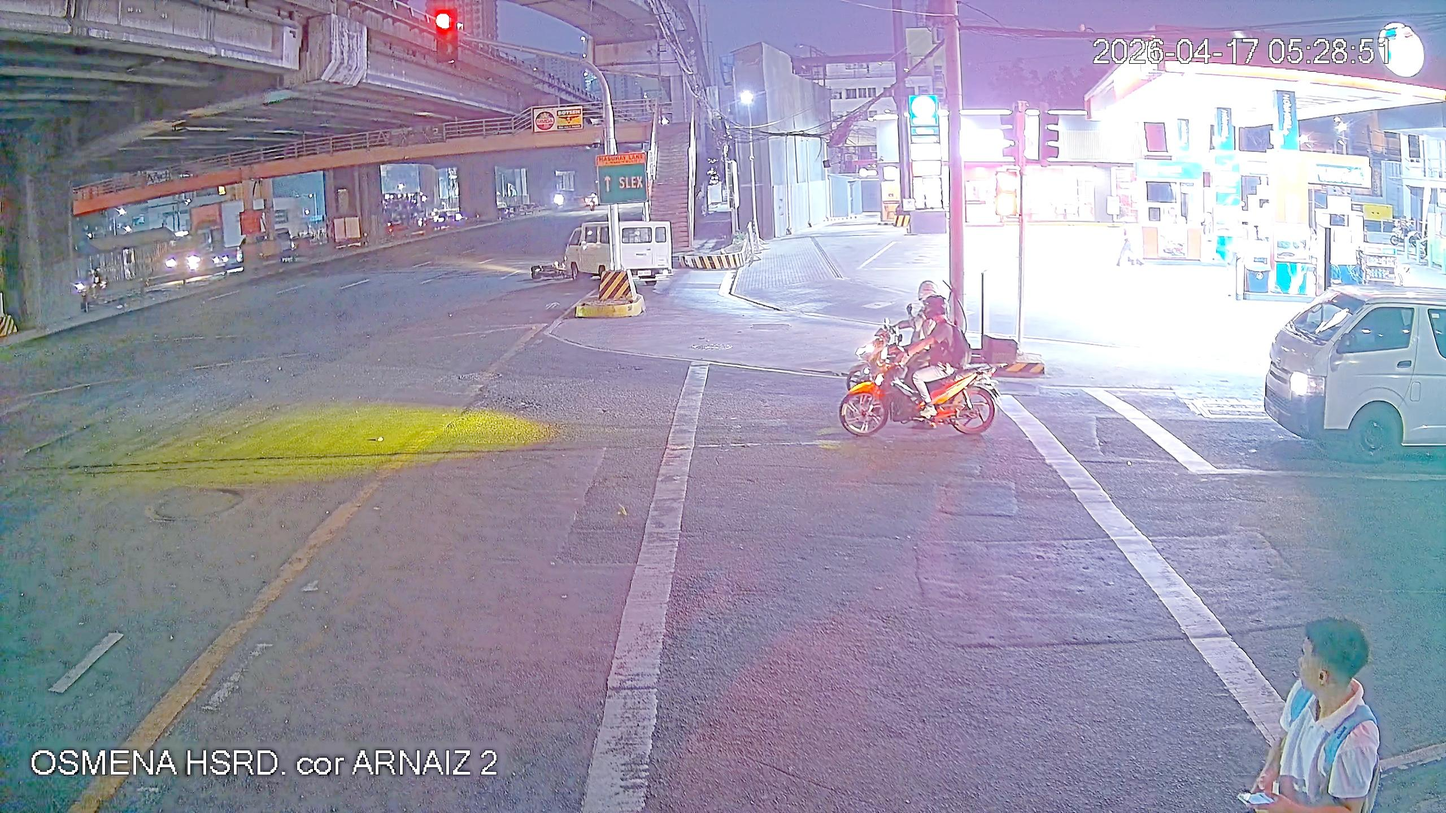Car: (1262, 287, 1446, 460), (566, 218, 674, 285)
Minor Accident: (528, 216, 674, 286)
Motor: (851, 371, 1000, 437), (851, 322, 911, 387), (528, 257, 571, 280)
